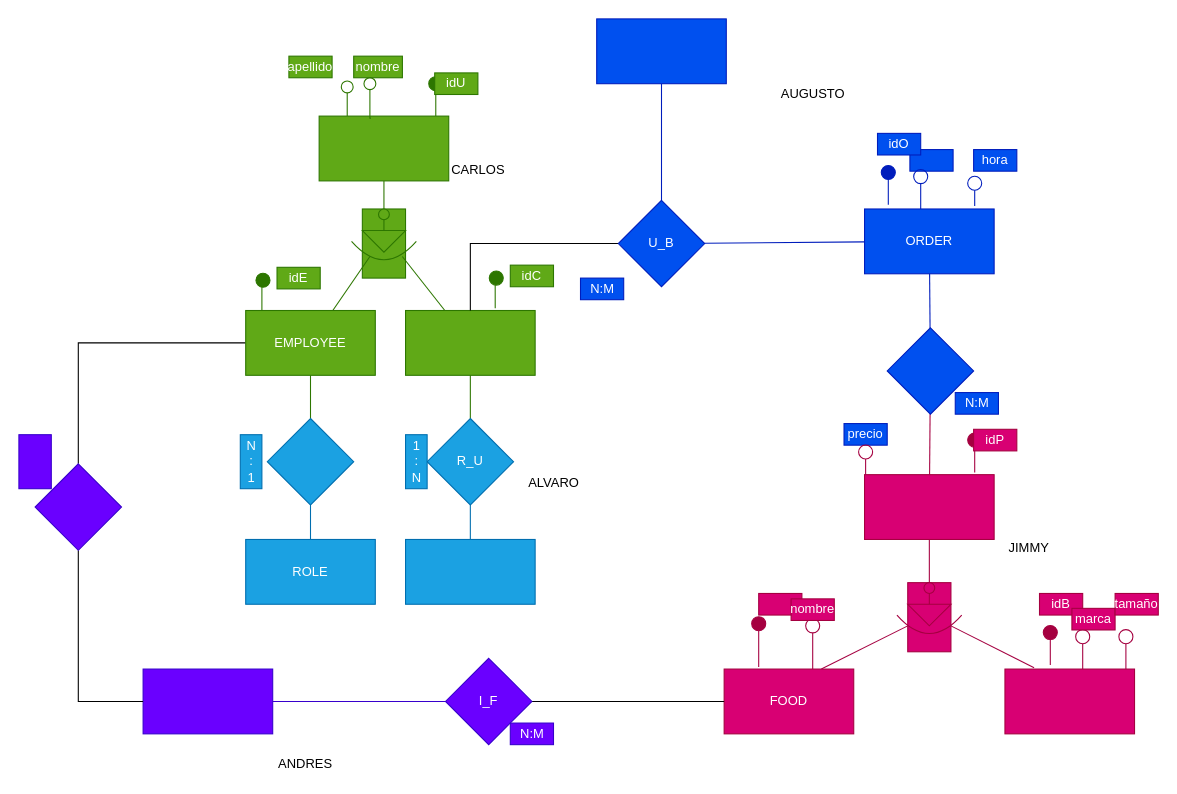
This 1177x794 diagram has some shape labels left out. Each missing label, with the centre of its shape:
BILL: point (661, 51)
CUSTOMER: point (469, 342)
DRINK: point (1069, 701)
E_I: point (78, 506)
idF: point (780, 603)
INGREDIENT: point (207, 701)
N : M: point (34, 461)
nroMesa: point (931, 159)
O_P: point (930, 370)
PRODUCT: point (928, 506)
RATING: point (469, 571)
U_R: point (310, 461)
USER: point (383, 148)
